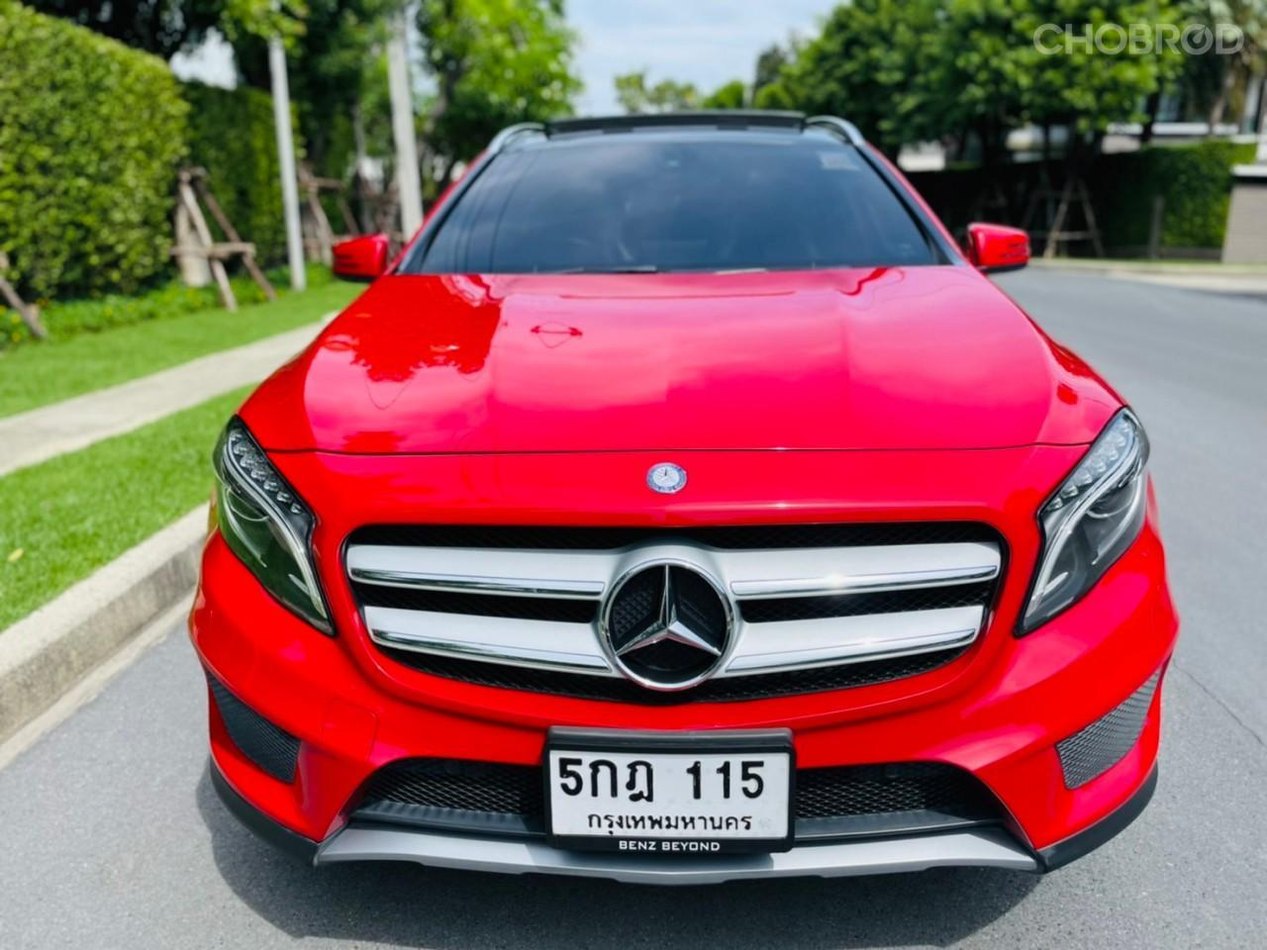license-plate: (544, 722, 801, 860)
